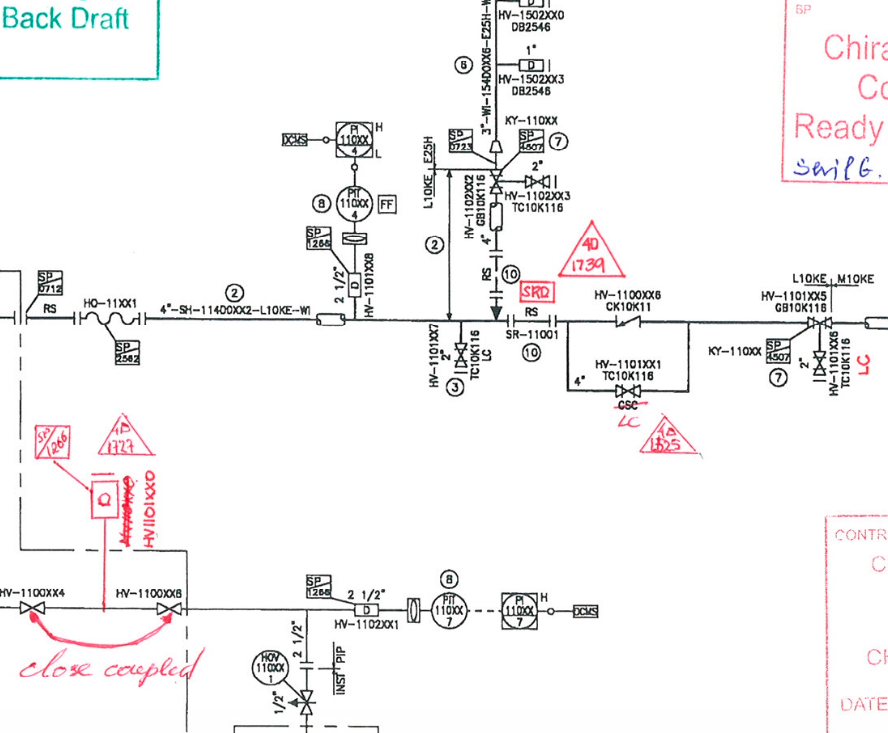Instrument: (427, 589, 471, 643), (333, 182, 375, 225)
Instrument-square: (497, 586, 542, 635), (332, 118, 375, 161)
